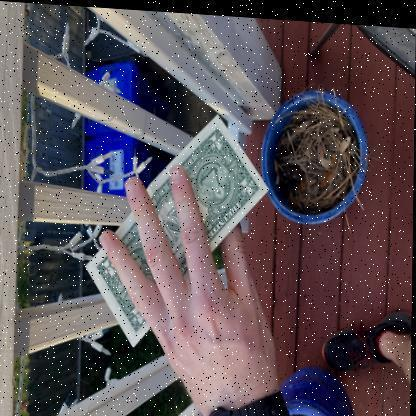one-back: (87, 110, 270, 345)
